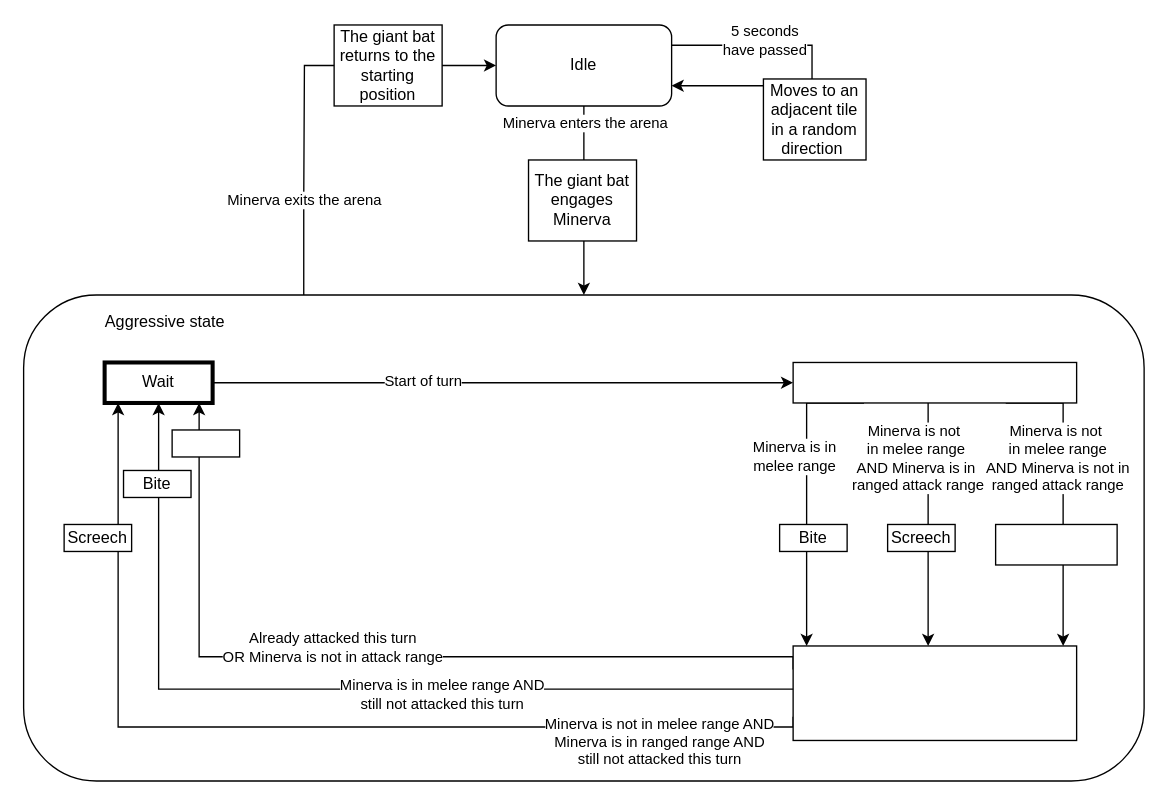
Image size: 1168x805. Some labels were removed from this diagram. The centre of each missing label's shape, as x and y in pixels:
"End turn" belongs at pixel 205 443.
"First action" belongs at pixel 934 382.
"Move torwards Minerva" belongs at pixel 1055 544.
"Second action" belongs at pixel 934 692.
